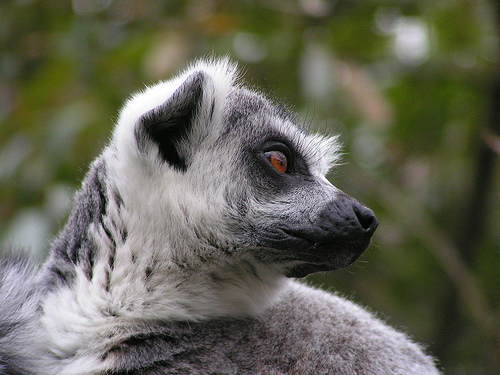cat: (0, 48, 444, 374)
